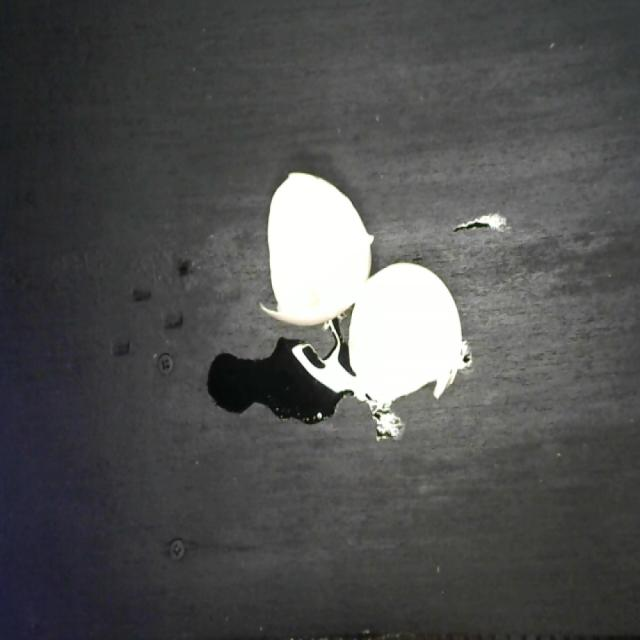biodegradable: (251, 164, 470, 411)
